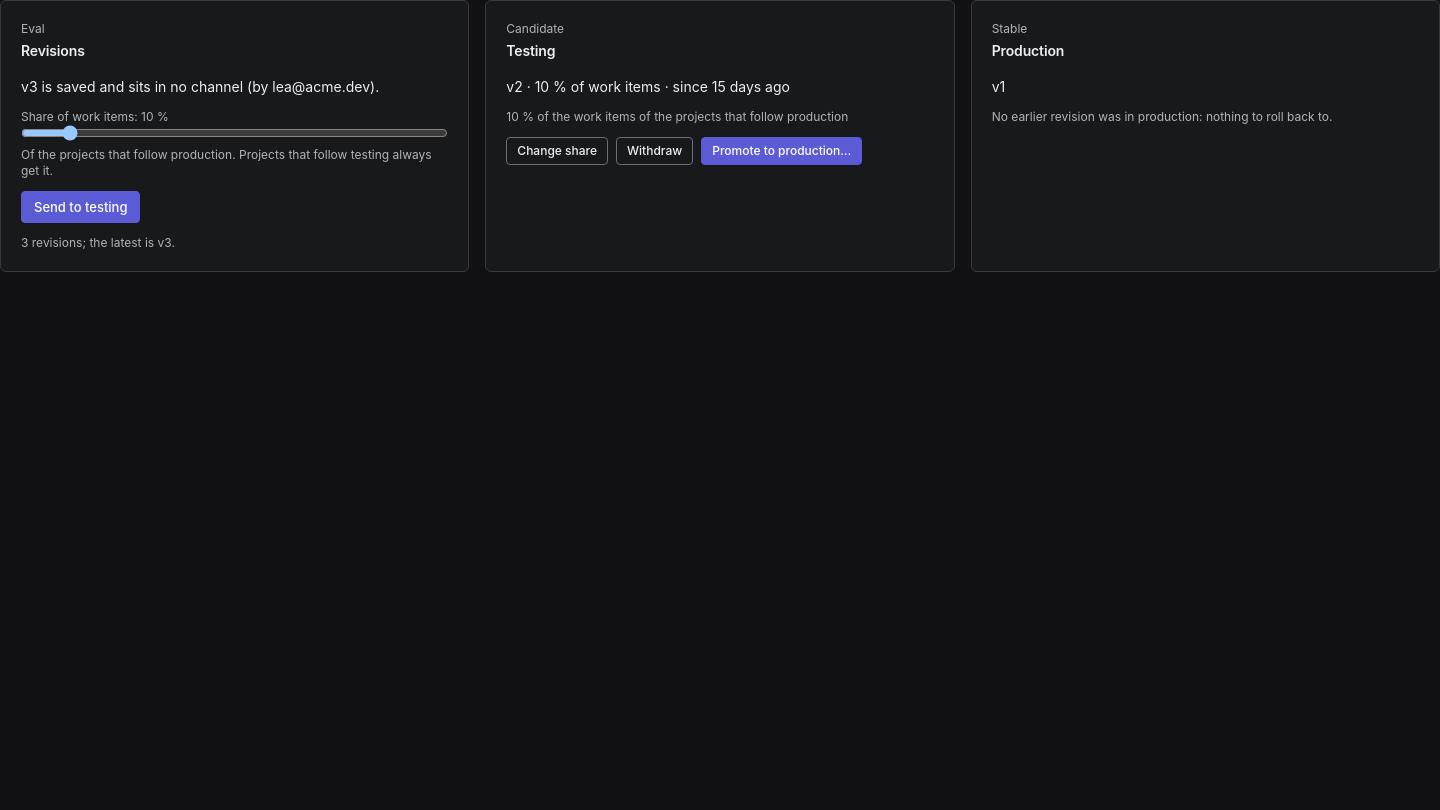
Test: the pipeline › holds 'Promote' back while a required check fails, with the check's detail, then lets it through
Click the button "Promote to production…".
click(782, 151)  # box [701,137,862,165]
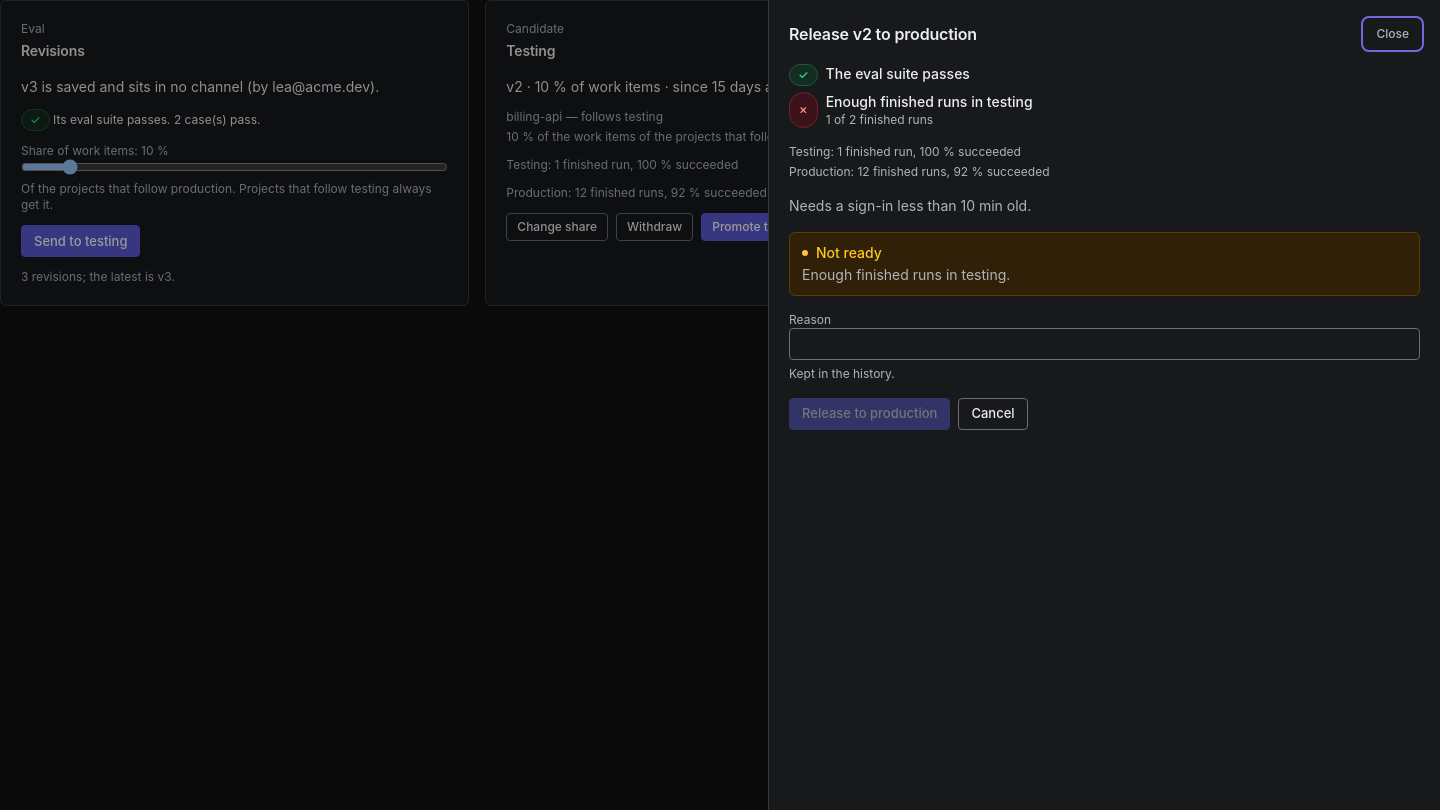
Result: the list item "✗ Enough finished runs in testing 1 of 2 finished runs" is shown at [789,92,1059,128]
Result: the button "Release to production" is disabled at [789,398,950,430]
Result: the text "Not ready" is shown at [802,244,882,261]
Click the button "Cancel".
click(993, 414)  # box [958,398,1028,430]
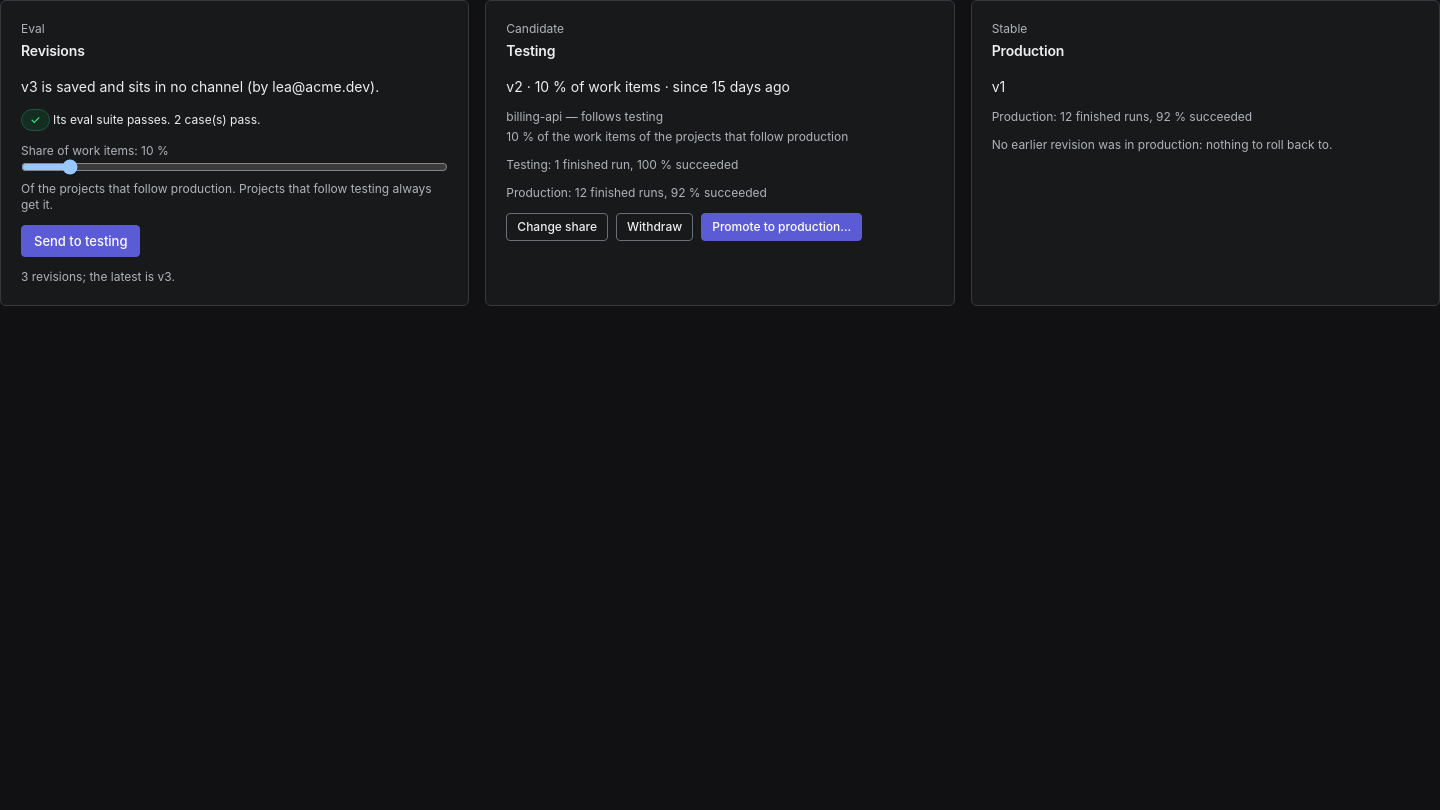
Click the button "Promote to production…".
click(782, 227)  # box [701,213,862,241]
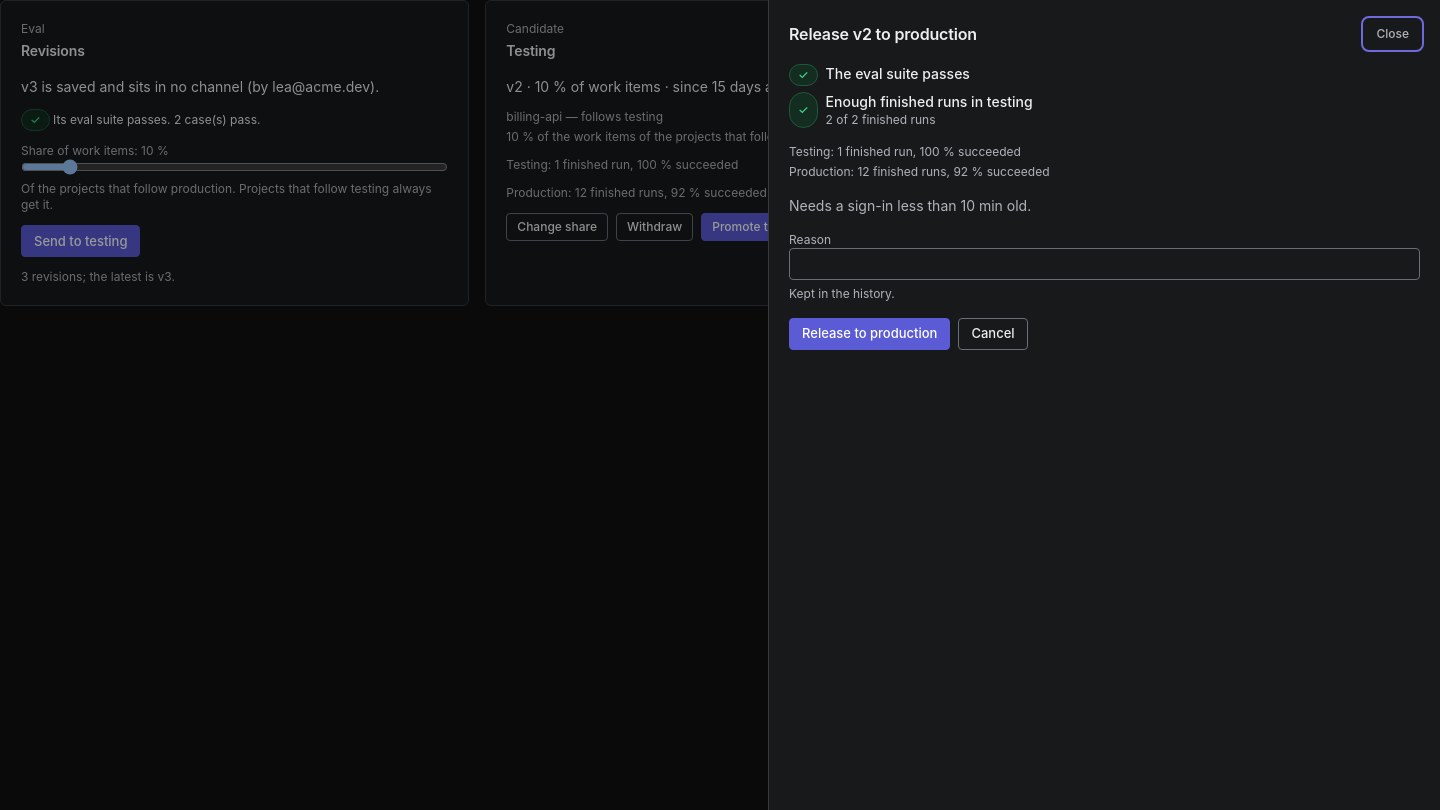
Result: the button "Release to production" is enabled at [789,318,950,350]
Type "two runs" into the field labelled "Reason".
click(1104, 264); type("two runs")  # box [789,248,1420,280]
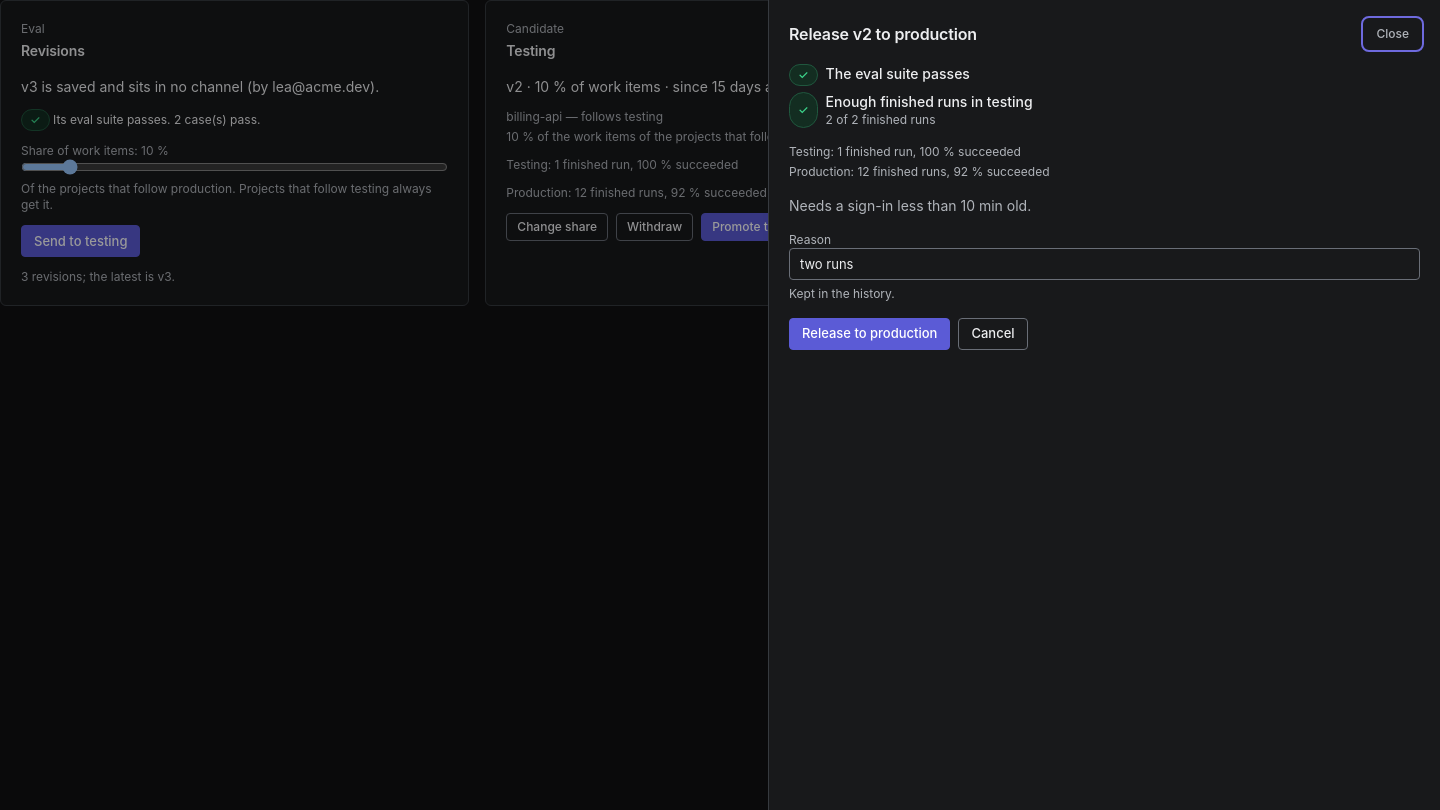
Click the button "Release to production".
click(870, 334)  # box [789,318,950,350]
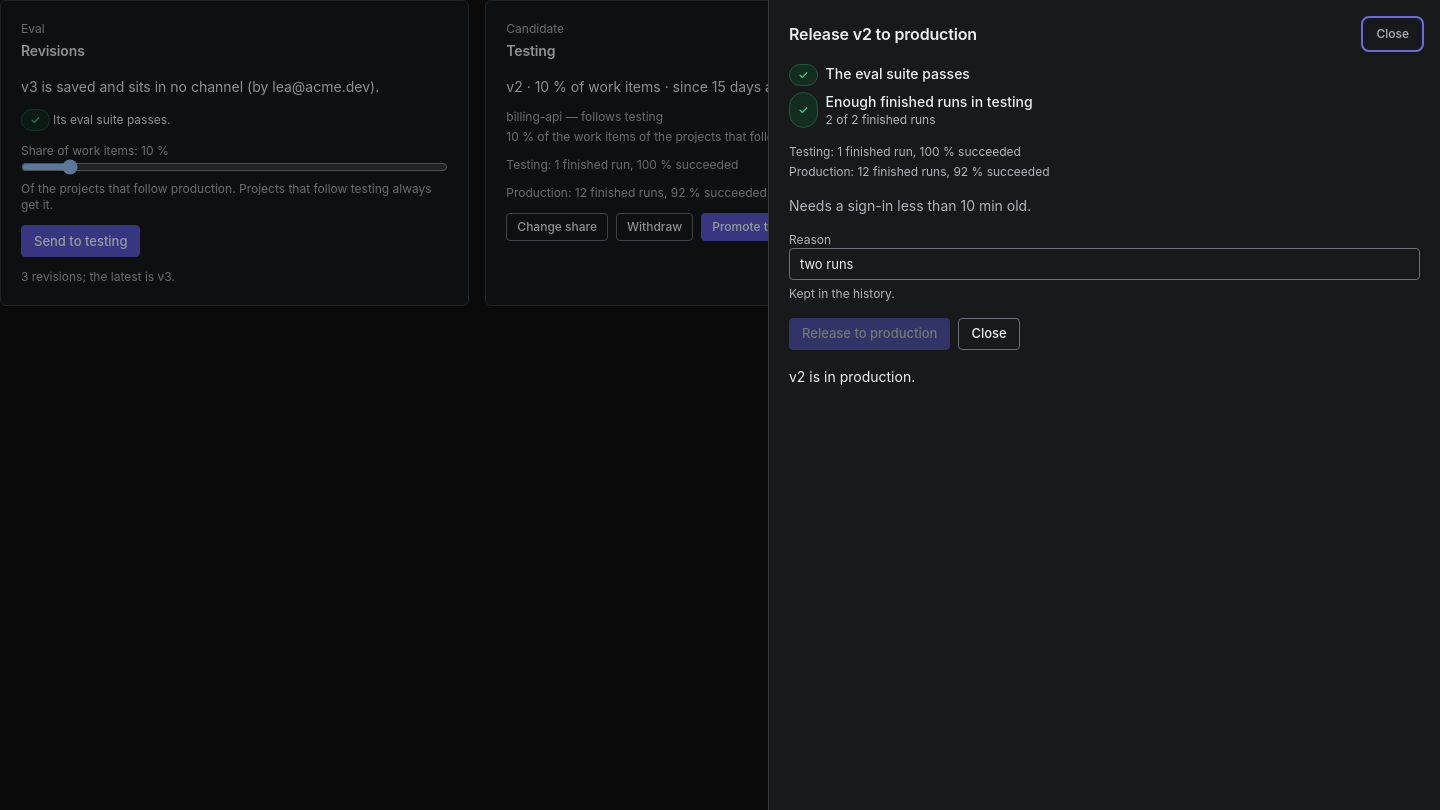
Result: the text "v2 is in production." is shown at [789,368,915,385]
